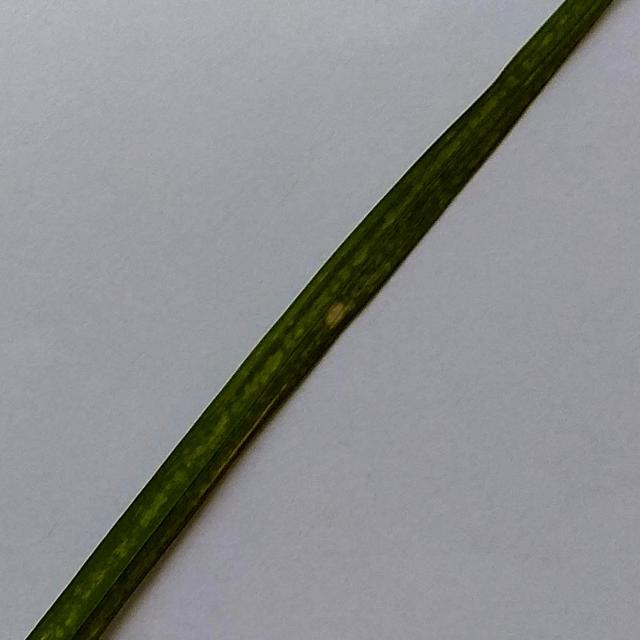Leaf_Blast: (317, 291, 358, 336)
